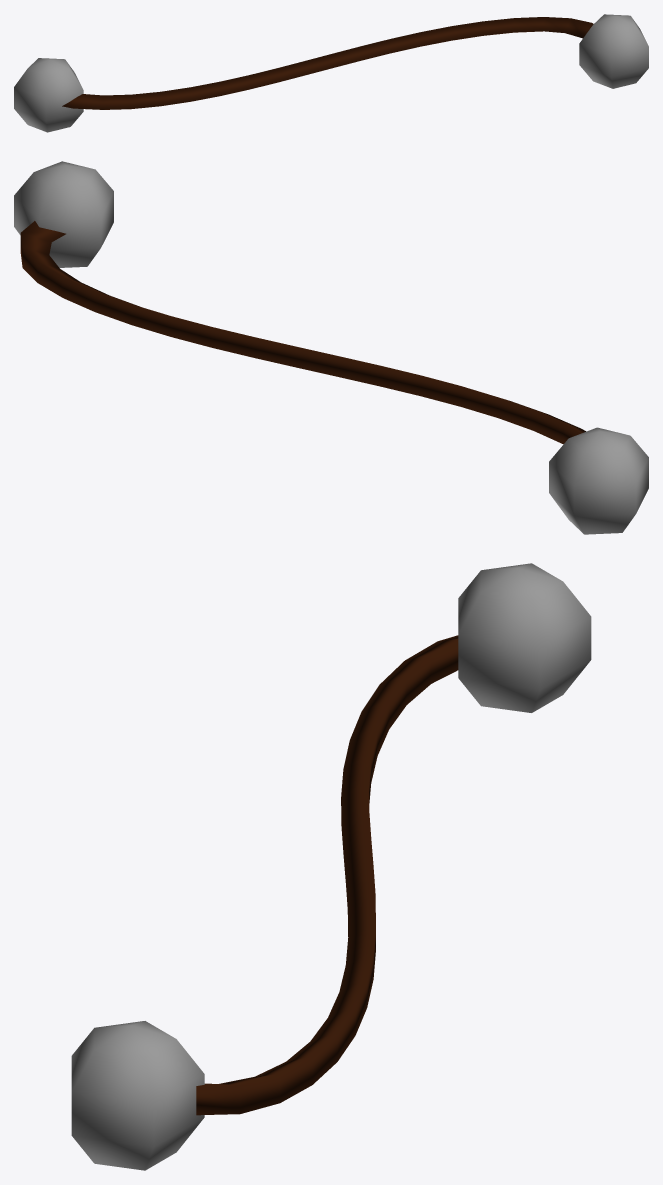
File: bolaThrow.fbx
3 views of the same model, one above another, from view 1: azimuth 30°, elevation 25°; view 2: azimuth 150°, elevation 25°; view 3: azimuth 270°, elevation 25° (orthographic). The views are drawn at different scales.
Parts seen in each view (by area): view 1: Sphere; view 2: Sphere; view 3: Sphere.
Boxes of the visible parts, box(x1,y1,x2,y2) form: Sphere: box(14, 14, 648, 132); Sphere: box(14, 161, 648, 534); Sphere: box(71, 563, 591, 1170).
Bounding box in the file's own units: 186 × 23.5 × 78.97.
